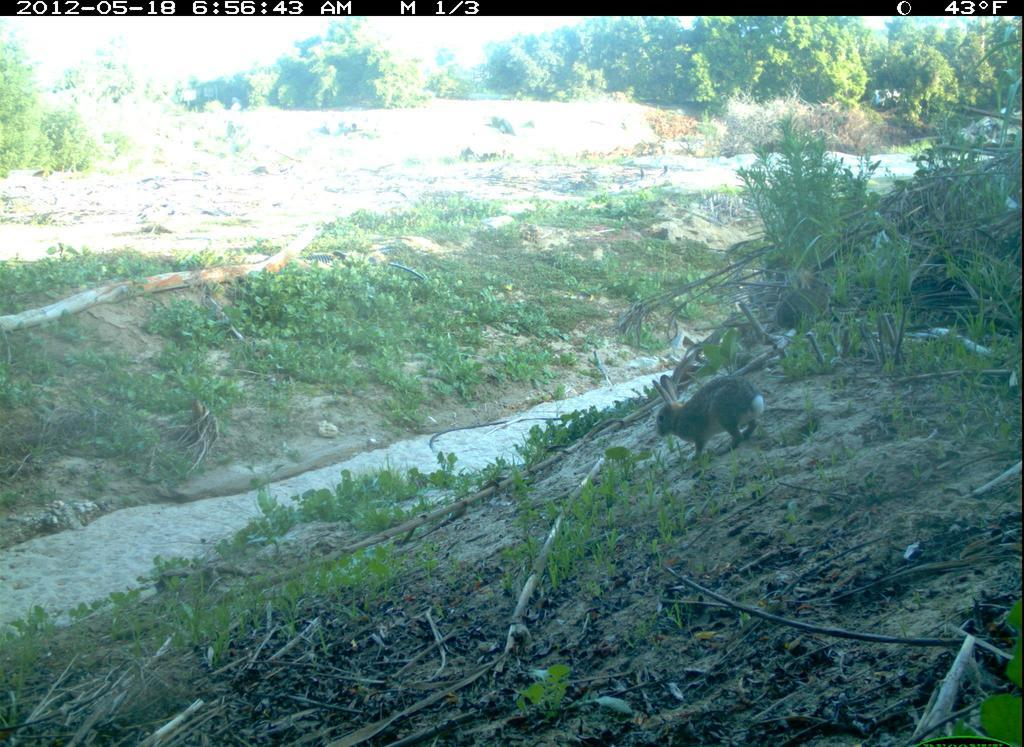rabbit: (644, 368, 771, 463)
